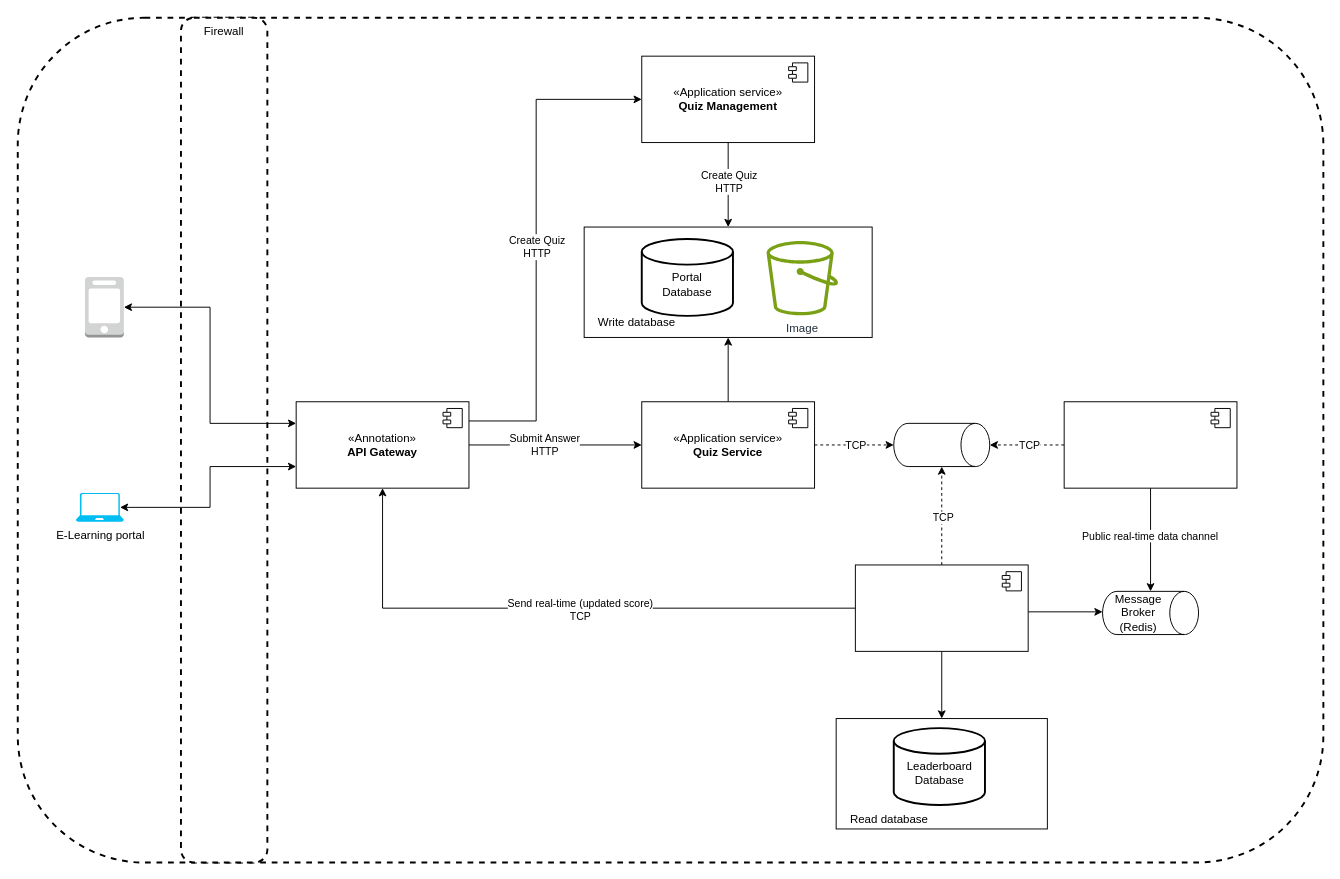
Some shapes in this 1340 by 879 pixel diagram are drawn without their labels. Here are the shapes that lost their labels. From the top down, the centre of each, then its label:
the point at 104,306: E-Learning app
the point at 941,444: Kafka
the point at 1150,444: «Application service» Score Service
the point at 941,607: «Websocket server» Leaderboard Service
